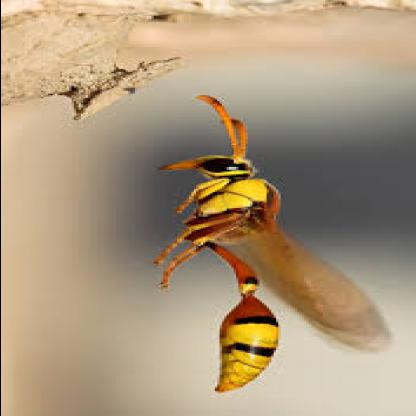other: (148, 81, 364, 397)
